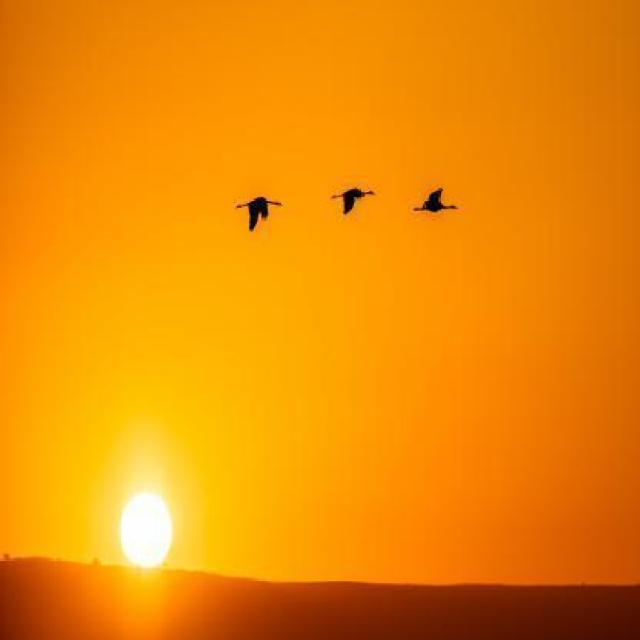bird: (235, 197, 283, 232), (332, 188, 377, 218), (414, 188, 458, 217)
